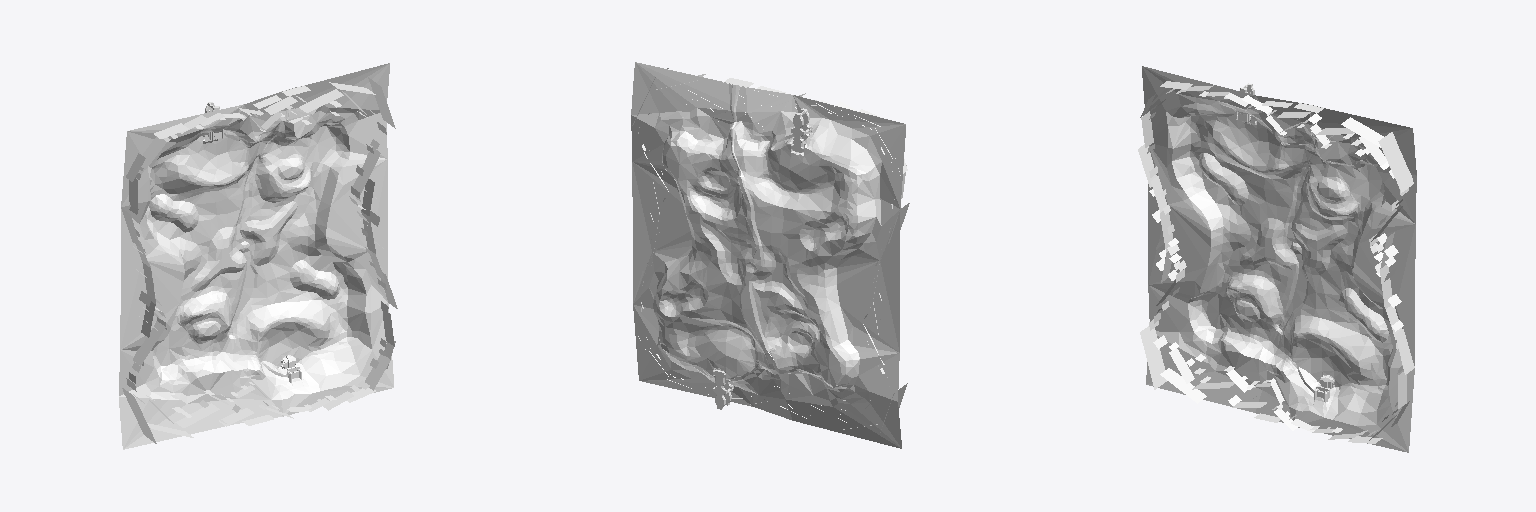
File: timberland_Lightmap.obj
3 renders of one model, left to right at view 1: azimuth 30°, elevation 25°; view 2: azimuth 150°, elevation 25°; view 3: azimuth 330°, elevation 25°, orthographic.
Visible parts, largest first — view 1: timberland_Lightmap_0, timberland_Lightmap_1, timberland_Lightmap_2, timberland_Lightmap_17, timberland_Lightmap_23, timberland_Lightmap_28, timberland_Lightmap_3, timberland_Lightmap_14, timberland_Lightmap_4, timberland_Lightmap_5; view 2: timberland_Lightmap_0, timberland_Lightmap_1, timberland_Lightmap_2; view 3: timberland_Lightmap_0, timberland_Lightmap_1, timberland_Lightmap_3, timberland_Lightmap_2, timberland_Lightmap_16, timberland_Lightmap_4, timberland_Lightmap_14, timberland_Lightmap_21, timberland_Lightmap_5, timberland_Lightmap_28, timberland_Lightmap_15, timberland_Lightmap_18 (+1 smaller).
Boxes of the visible parts, x1,y1,x2,y2 form: timberland_Lightmap_0: [119, 63, 397, 449]; timberland_Lightmap_1: [146, 122, 347, 376]; timberland_Lightmap_2: [228, 121, 282, 334]; timberland_Lightmap_17: [351, 147, 380, 215]; timberland_Lightmap_23: [141, 115, 207, 169]; timberland_Lightmap_28: [252, 85, 310, 131]; timberland_Lightmap_3: [329, 77, 395, 128]; timberland_Lightmap_14: [263, 355, 336, 418]; timberland_Lightmap_4: [122, 362, 156, 443]; timberland_Lightmap_5: [121, 167, 143, 247]; timberland_Lightmap_0: [631, 62, 905, 448]; timberland_Lightmap_1: [653, 129, 857, 384]; timberland_Lightmap_2: [730, 129, 774, 363]; timberland_Lightmap_0: [1142, 66, 1416, 452]; timberland_Lightmap_1: [1190, 115, 1392, 392]; timberland_Lightmap_3: [1341, 117, 1413, 192]; timberland_Lightmap_2: [1279, 139, 1316, 329]; timberland_Lightmap_16: [1153, 335, 1206, 403]; timberland_Lightmap_4: [1140, 301, 1169, 389]; timberland_Lightmap_14: [1274, 375, 1342, 432]; timberland_Lightmap_21: [1156, 211, 1186, 271]; timberland_Lightmap_5: [1138, 105, 1156, 187]; timberland_Lightmap_28: [1262, 101, 1323, 135]; timberland_Lightmap_15: [1199, 91, 1276, 124]; timberland_Lightmap_18: [1192, 366, 1248, 405].
Size of the model in its own units: 11520 by 13248 by 2132.